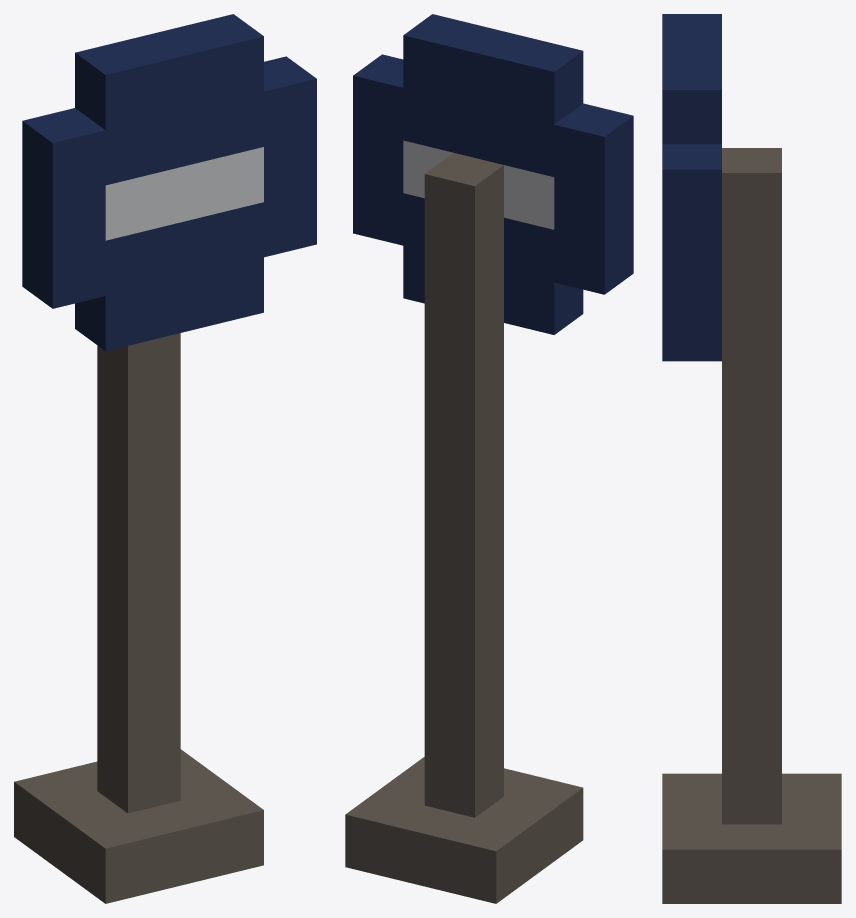
The model's file is traffic_sign_a_b.obj.
3 views of the same model, side by side, from view 1: azimuth 30°, elevation 25°; view 2: azimuth 150°, elevation 25°; view 3: azimuth 270°, elevation 25° (orthographic). The views are drawn at different scales.
Bounding box in the file's own units: 0.5 × 1.5 × 0.3.
1 material, 1 textured.
